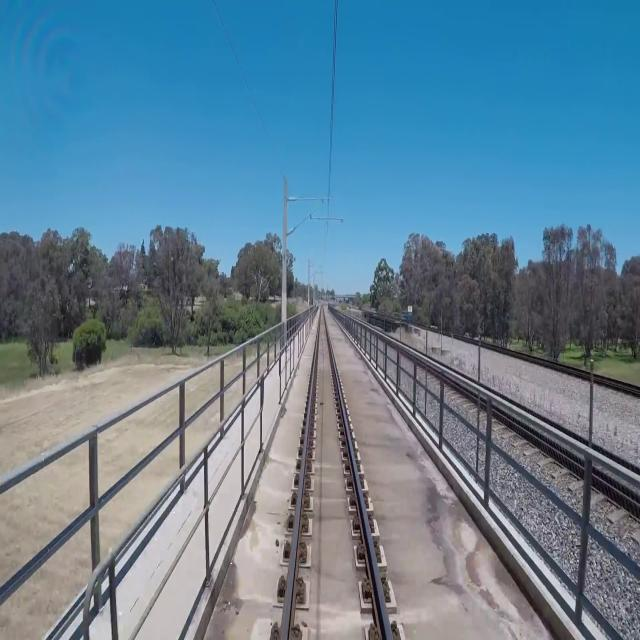rail-track: (287, 309, 387, 639)
